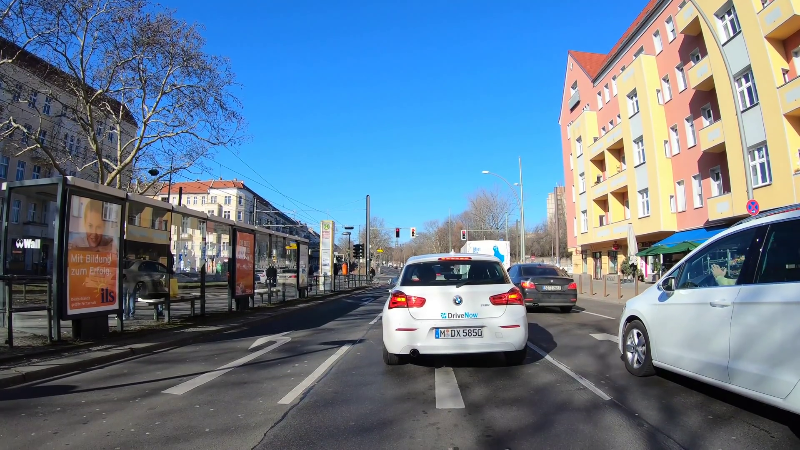Plate: (431, 325, 485, 339)
